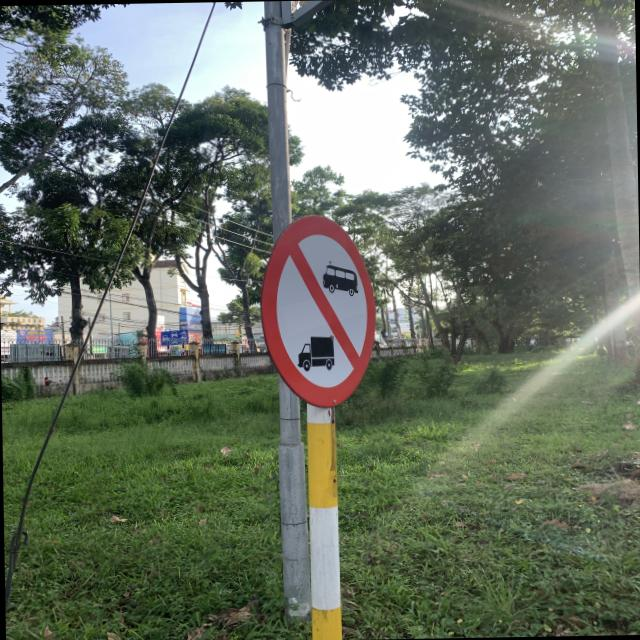Cam_XeTai_XeKhach: (261, 213, 384, 407)
